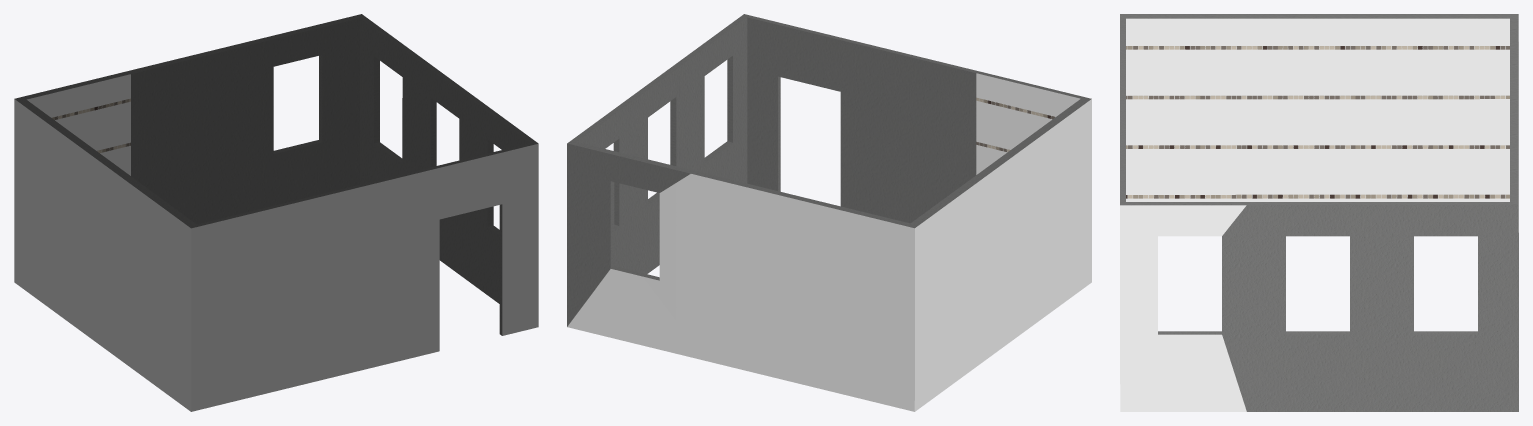
Rendered from FP430:Walls_4b20b26e.obj.
3 views of the same model, side by side, from view 1: azimuth 30°, elevation 25°; view 2: azimuth 150°, elevation 25°; view 3: azimuth 270°, elevation 25° (orthographic). The views are drawn at different scales.
Parts seen in each view (by area): view 1: FP430:Walls_4b20b26e; view 2: FP430:Walls_4b20b26e; view 3: FP430:Walls_4b20b26e.
Boxes of the visible parts, left/top/right/bottom form: FP430:Walls_4b20b26e: left=14, top=14, right=538, bottom=411; FP430:Walls_4b20b26e: left=567, top=14, right=1091, bottom=411; FP430:Walls_4b20b26e: left=1120, top=14, right=1518, bottom=411.
Size of the model in its own units: 5.83 by 2.94 by 5.14.
